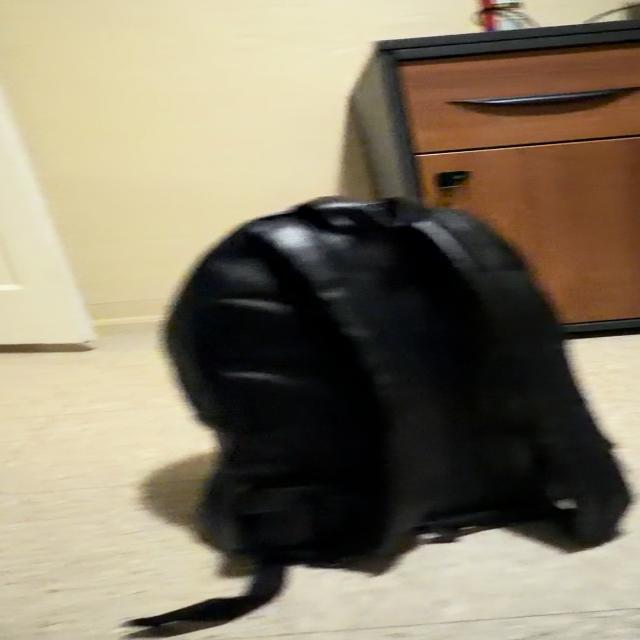backpack: (130, 198, 630, 626), (404, 546, 406, 548)
